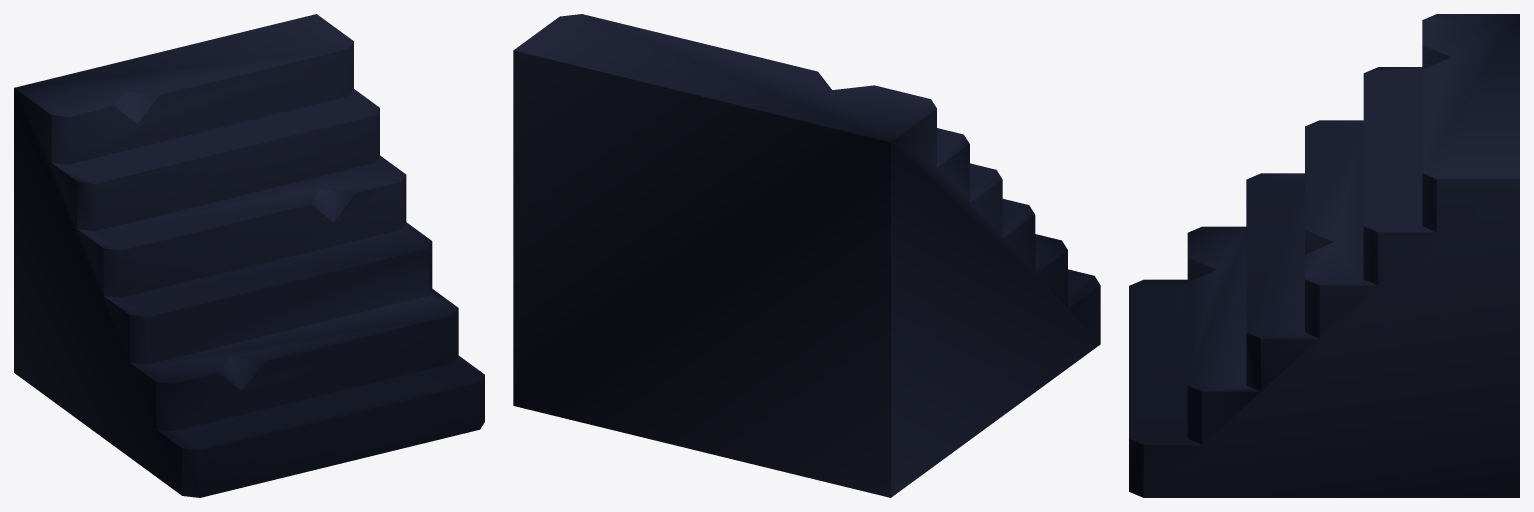
Rendered from stairs.obj.
3 views of the same model, side by side, from view 1: azimuth 30°, elevation 25°; view 2: azimuth 150°, elevation 25°; view 3: azimuth 270°, elevation 25° (orthographic). The views are drawn at different scales.
Visible parts, largest first — view 1: stairs; view 2: stairs; view 3: stairs.
Boxes of the visible parts, x1,y1,x2,y2 form: stairs: [14, 14, 484, 497]; stairs: [513, 14, 1100, 497]; stairs: [1129, 14, 1519, 497].
Bounding box in the file's own units: 1 × 0.9 × 1.
